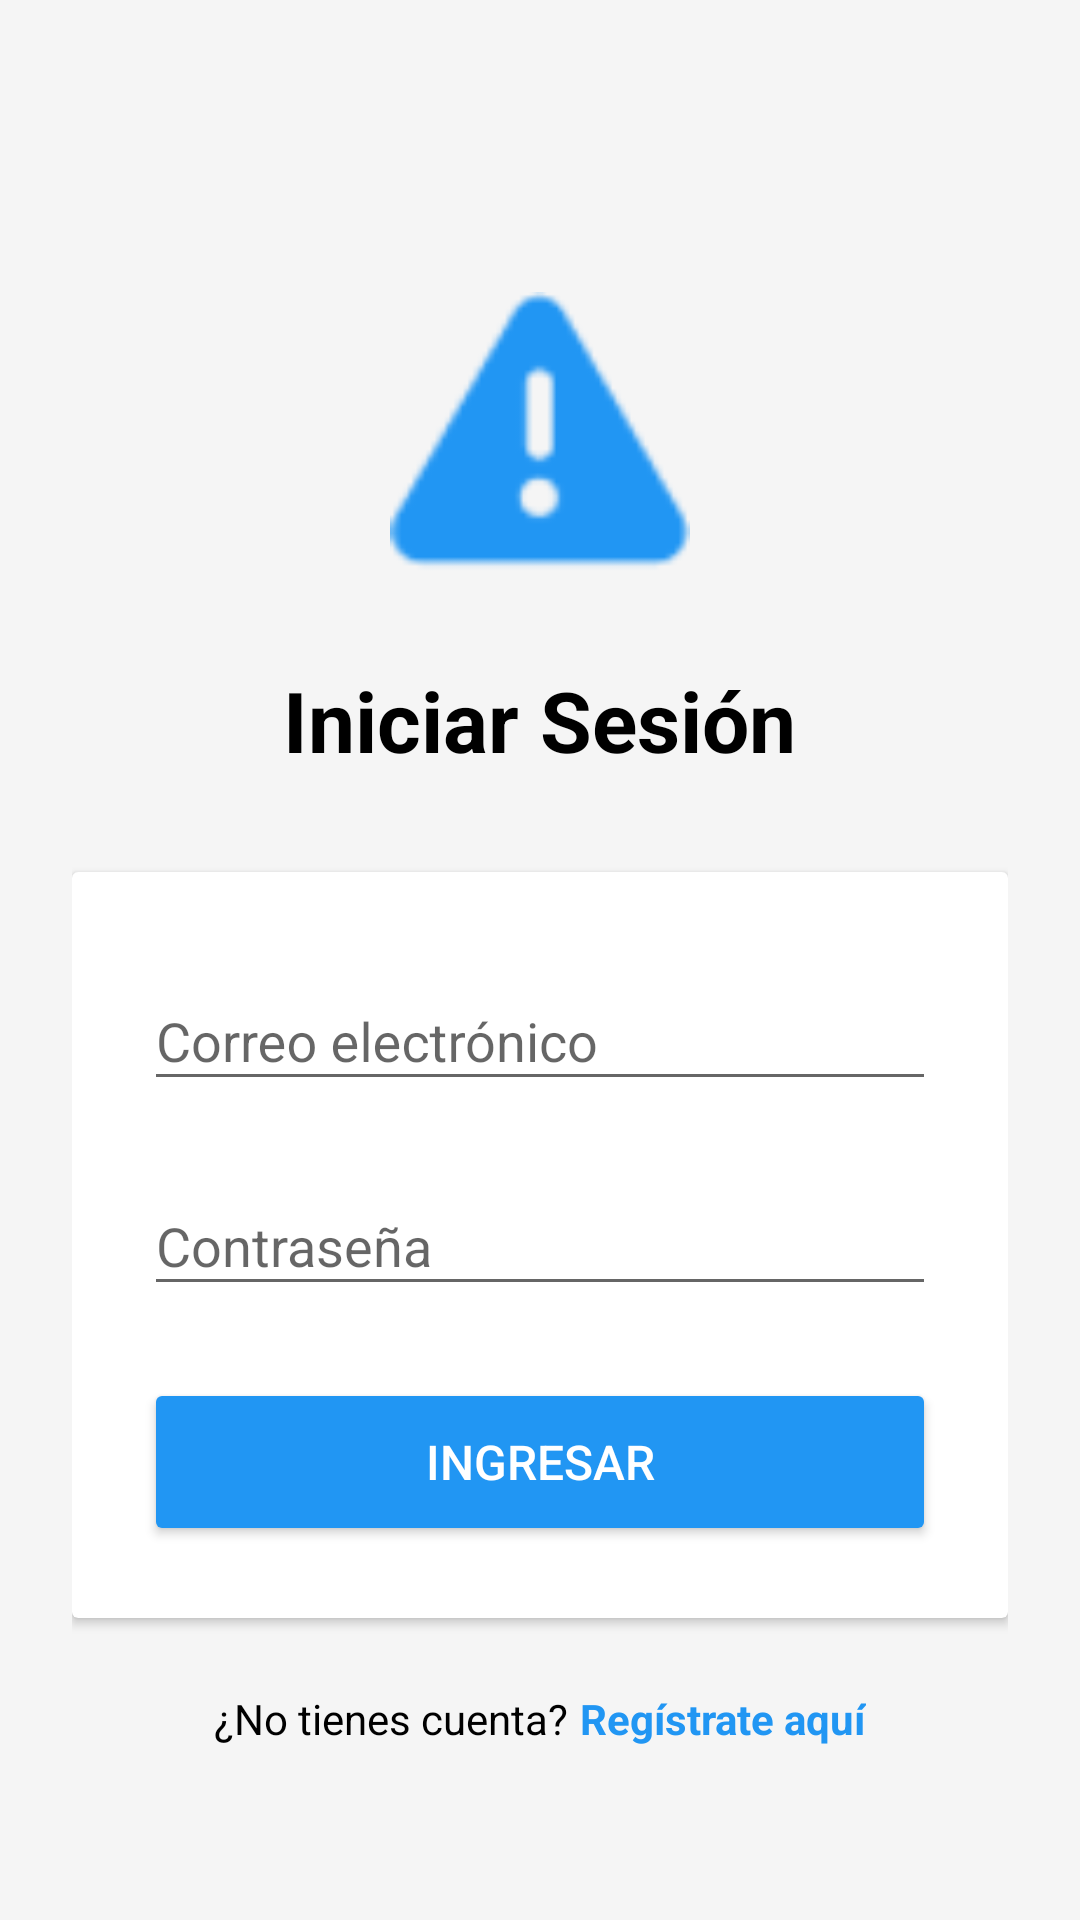

Icons on this 1080 × 1920 Android screen, each with its box as (x1, y1, x2, y2):
alert: (390, 292, 690, 566)
